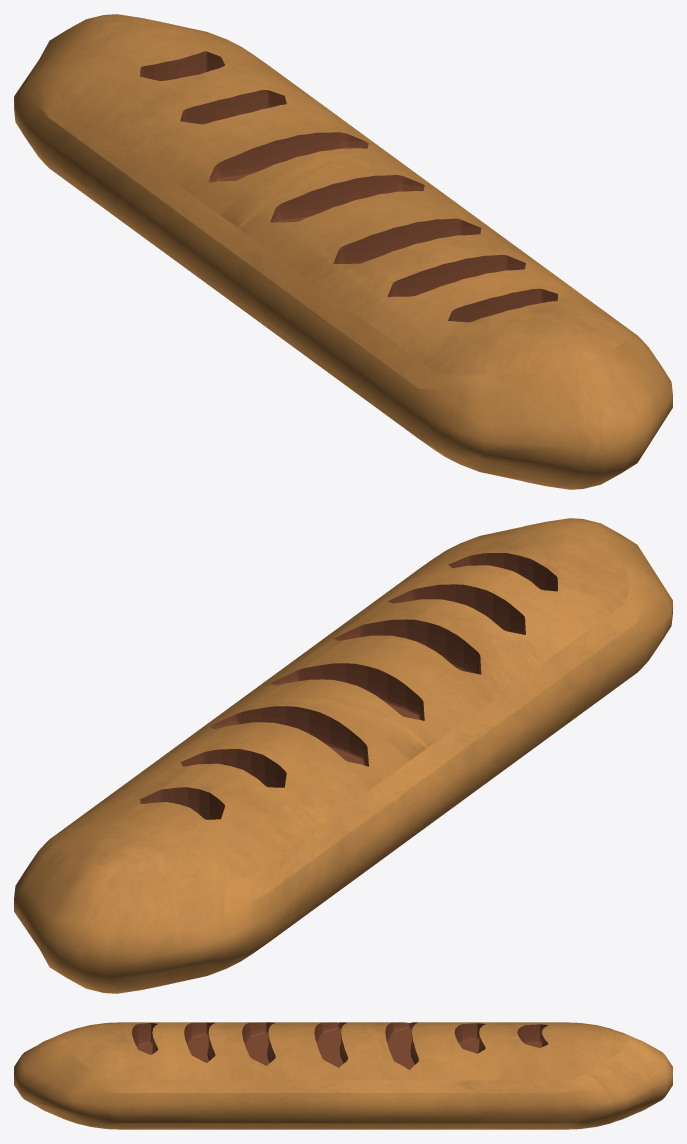
File: bread.fbx
The picture shows the model from 3 angles, top to bottom: view 1: azimuth 30°, elevation 25°; view 2: azimuth 150°, elevation 25°; view 3: azimuth 270°, elevation 25°; orthographic projection. The views are drawn at different scales.
Parts seen in each view (by area): view 1: Cube.016; view 2: Cube.016; view 3: Cube.016.
Boxes of the visible parts, left/top/right/bottom form: Cube.016: left=14, top=14, right=672, bottom=489; Cube.016: left=14, top=518, right=672, bottom=993; Cube.016: left=14, top=1022, right=672, bottom=1129.
Size of the model in its own units: 106 by 62.89 by 432.
